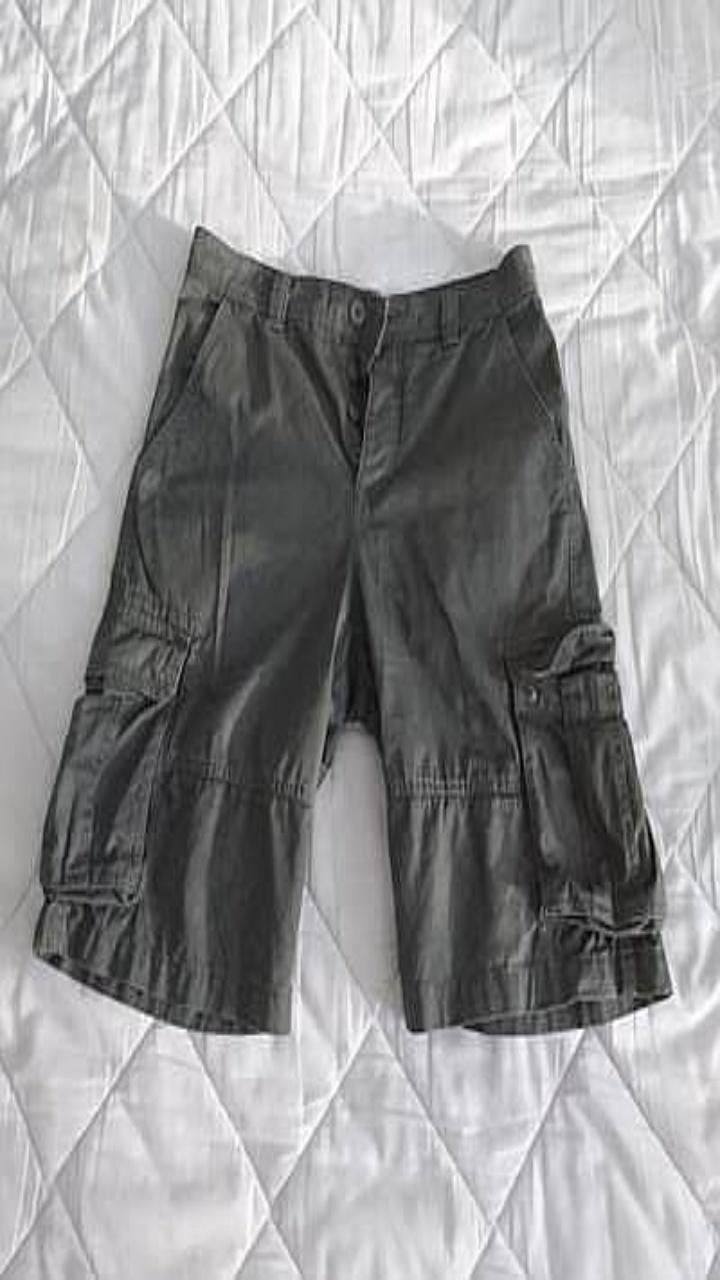Shorts: (33, 225, 671, 1032)
